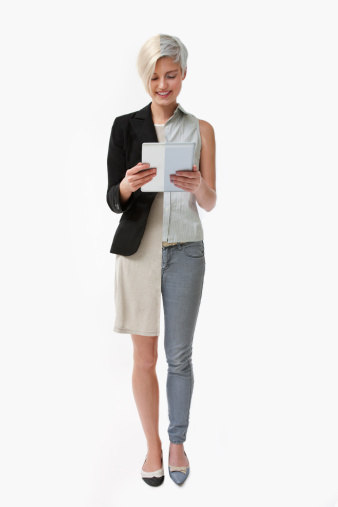em pe: (92, 38, 219, 489)
